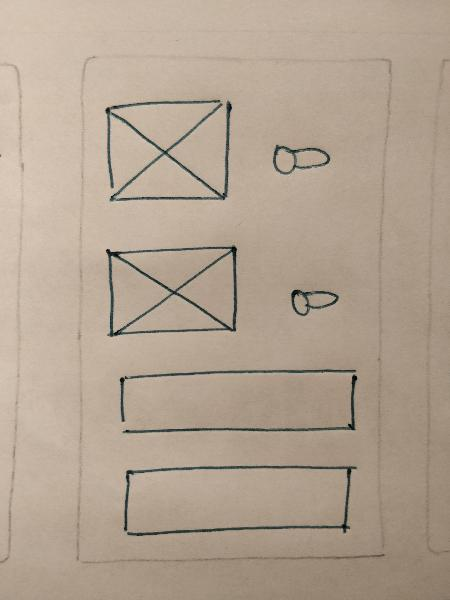image: (96, 92, 241, 214), (96, 241, 244, 341)
switch: (265, 133, 338, 186), (283, 277, 343, 325)
text_input: (112, 361, 361, 442), (110, 460, 363, 537)
